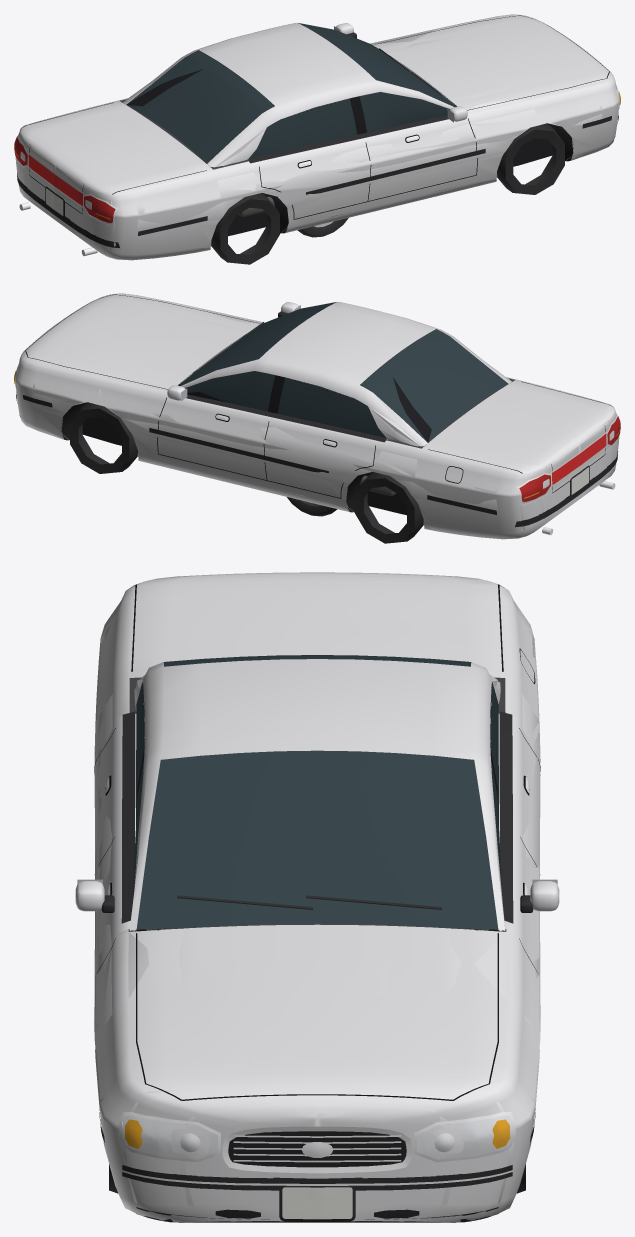
File: crownvic.glb
3 renders of one model, top to bottom at view 1: azimuth 30°, elevation 25°; view 2: azimuth 150°, elevation 25°; view 3: azimuth 270°, elevation 25°, orthographic. The views are drawn at different scales.
Visible parts, largest first — view 1: crownvic, crownvic_lo, crownvic_wf; view 2: crownvic, crownvic_lo, crownvic_wf; view 3: crownvic, crownvic_lo.
Part boxes in pixels (x1,y1,x2,y2): crownvic: (14, 14, 620, 260); crownvic_lo: (15, 16, 619, 264); crownvic_wf: (297, 217, 348, 237); crownvic: (14, 293, 620, 539); crownvic_lo: (15, 295, 619, 543); crownvic_wf: (287, 497, 337, 516); crownvic: (75, 572, 559, 1222); crownvic_lo: (85, 575, 549, 1221).
Size of the model in its own units: 5.44 by 1.79 by 2.14.
